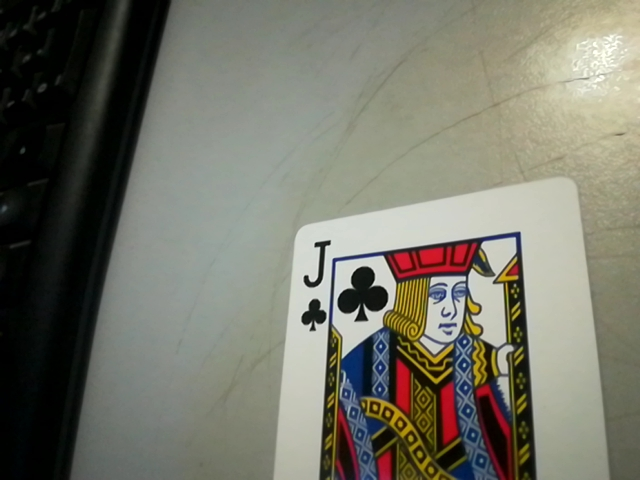mh j: (294, 232, 339, 333)
